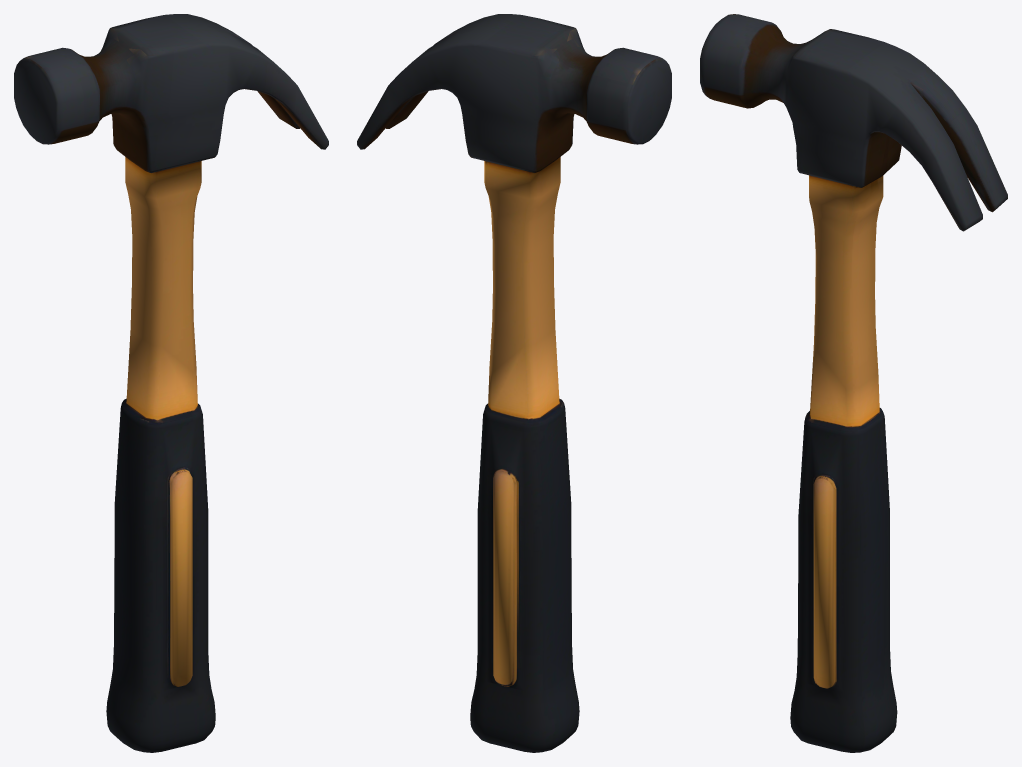
File: hammer_dcec7540_v3.glb
The picture shows the model from 3 angles, left to right: view 1: azimuth 30°, elevation 25°; view 2: azimuth 150°, elevation 25°; view 3: azimuth 330°, elevation 25°; orthographic projection. The views are drawn at different scales.
Parts seen in each view (by area): view 1: material; view 2: material; view 3: material.
Part boxes in pixels (<box>): material: <box>14,14,328,752</box>; material: <box>357,14,671,752</box>; material: <box>700,14,1007,752</box>.
Bounding box in the file's own units: 0.7753 × 1.9 × 0.2168.
1 material, 1 textured.
